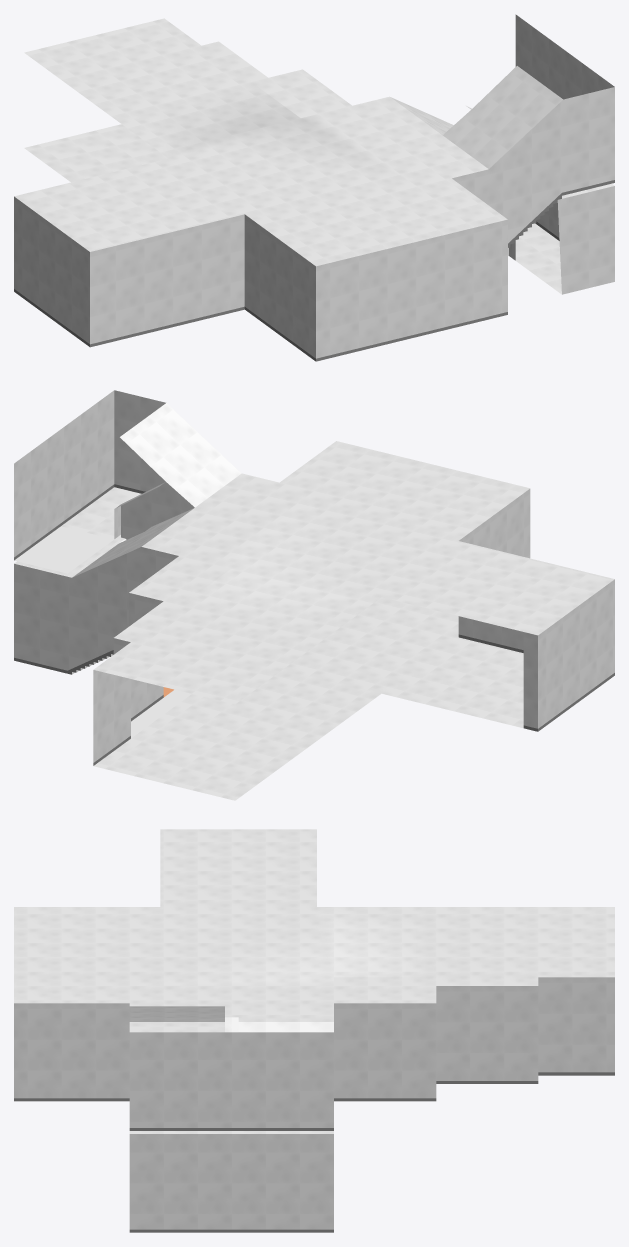
The model's file is Stairs.fbx.
3 views of the same model, one above another, from view 1: azimuth 30°, elevation 25°; view 2: azimuth 150°, elevation 25°; view 3: azimuth 270°, elevation 25° (orthographic). The views are drawn at different scales.
Visible parts, largest first — view 1: _Stairs; view 2: _Stairs; view 3: _Stairs.
Part boxes in pixels (x1=…): _Stairs: x1=14, y1=14, x2=614, y2=361; _Stairs: x1=14, y1=390, x2=614, y2=800; _Stairs: x1=14, y1=829, x2=614, y2=1232.
Size of the model in its own units: 1780 by 650 by 1765.
